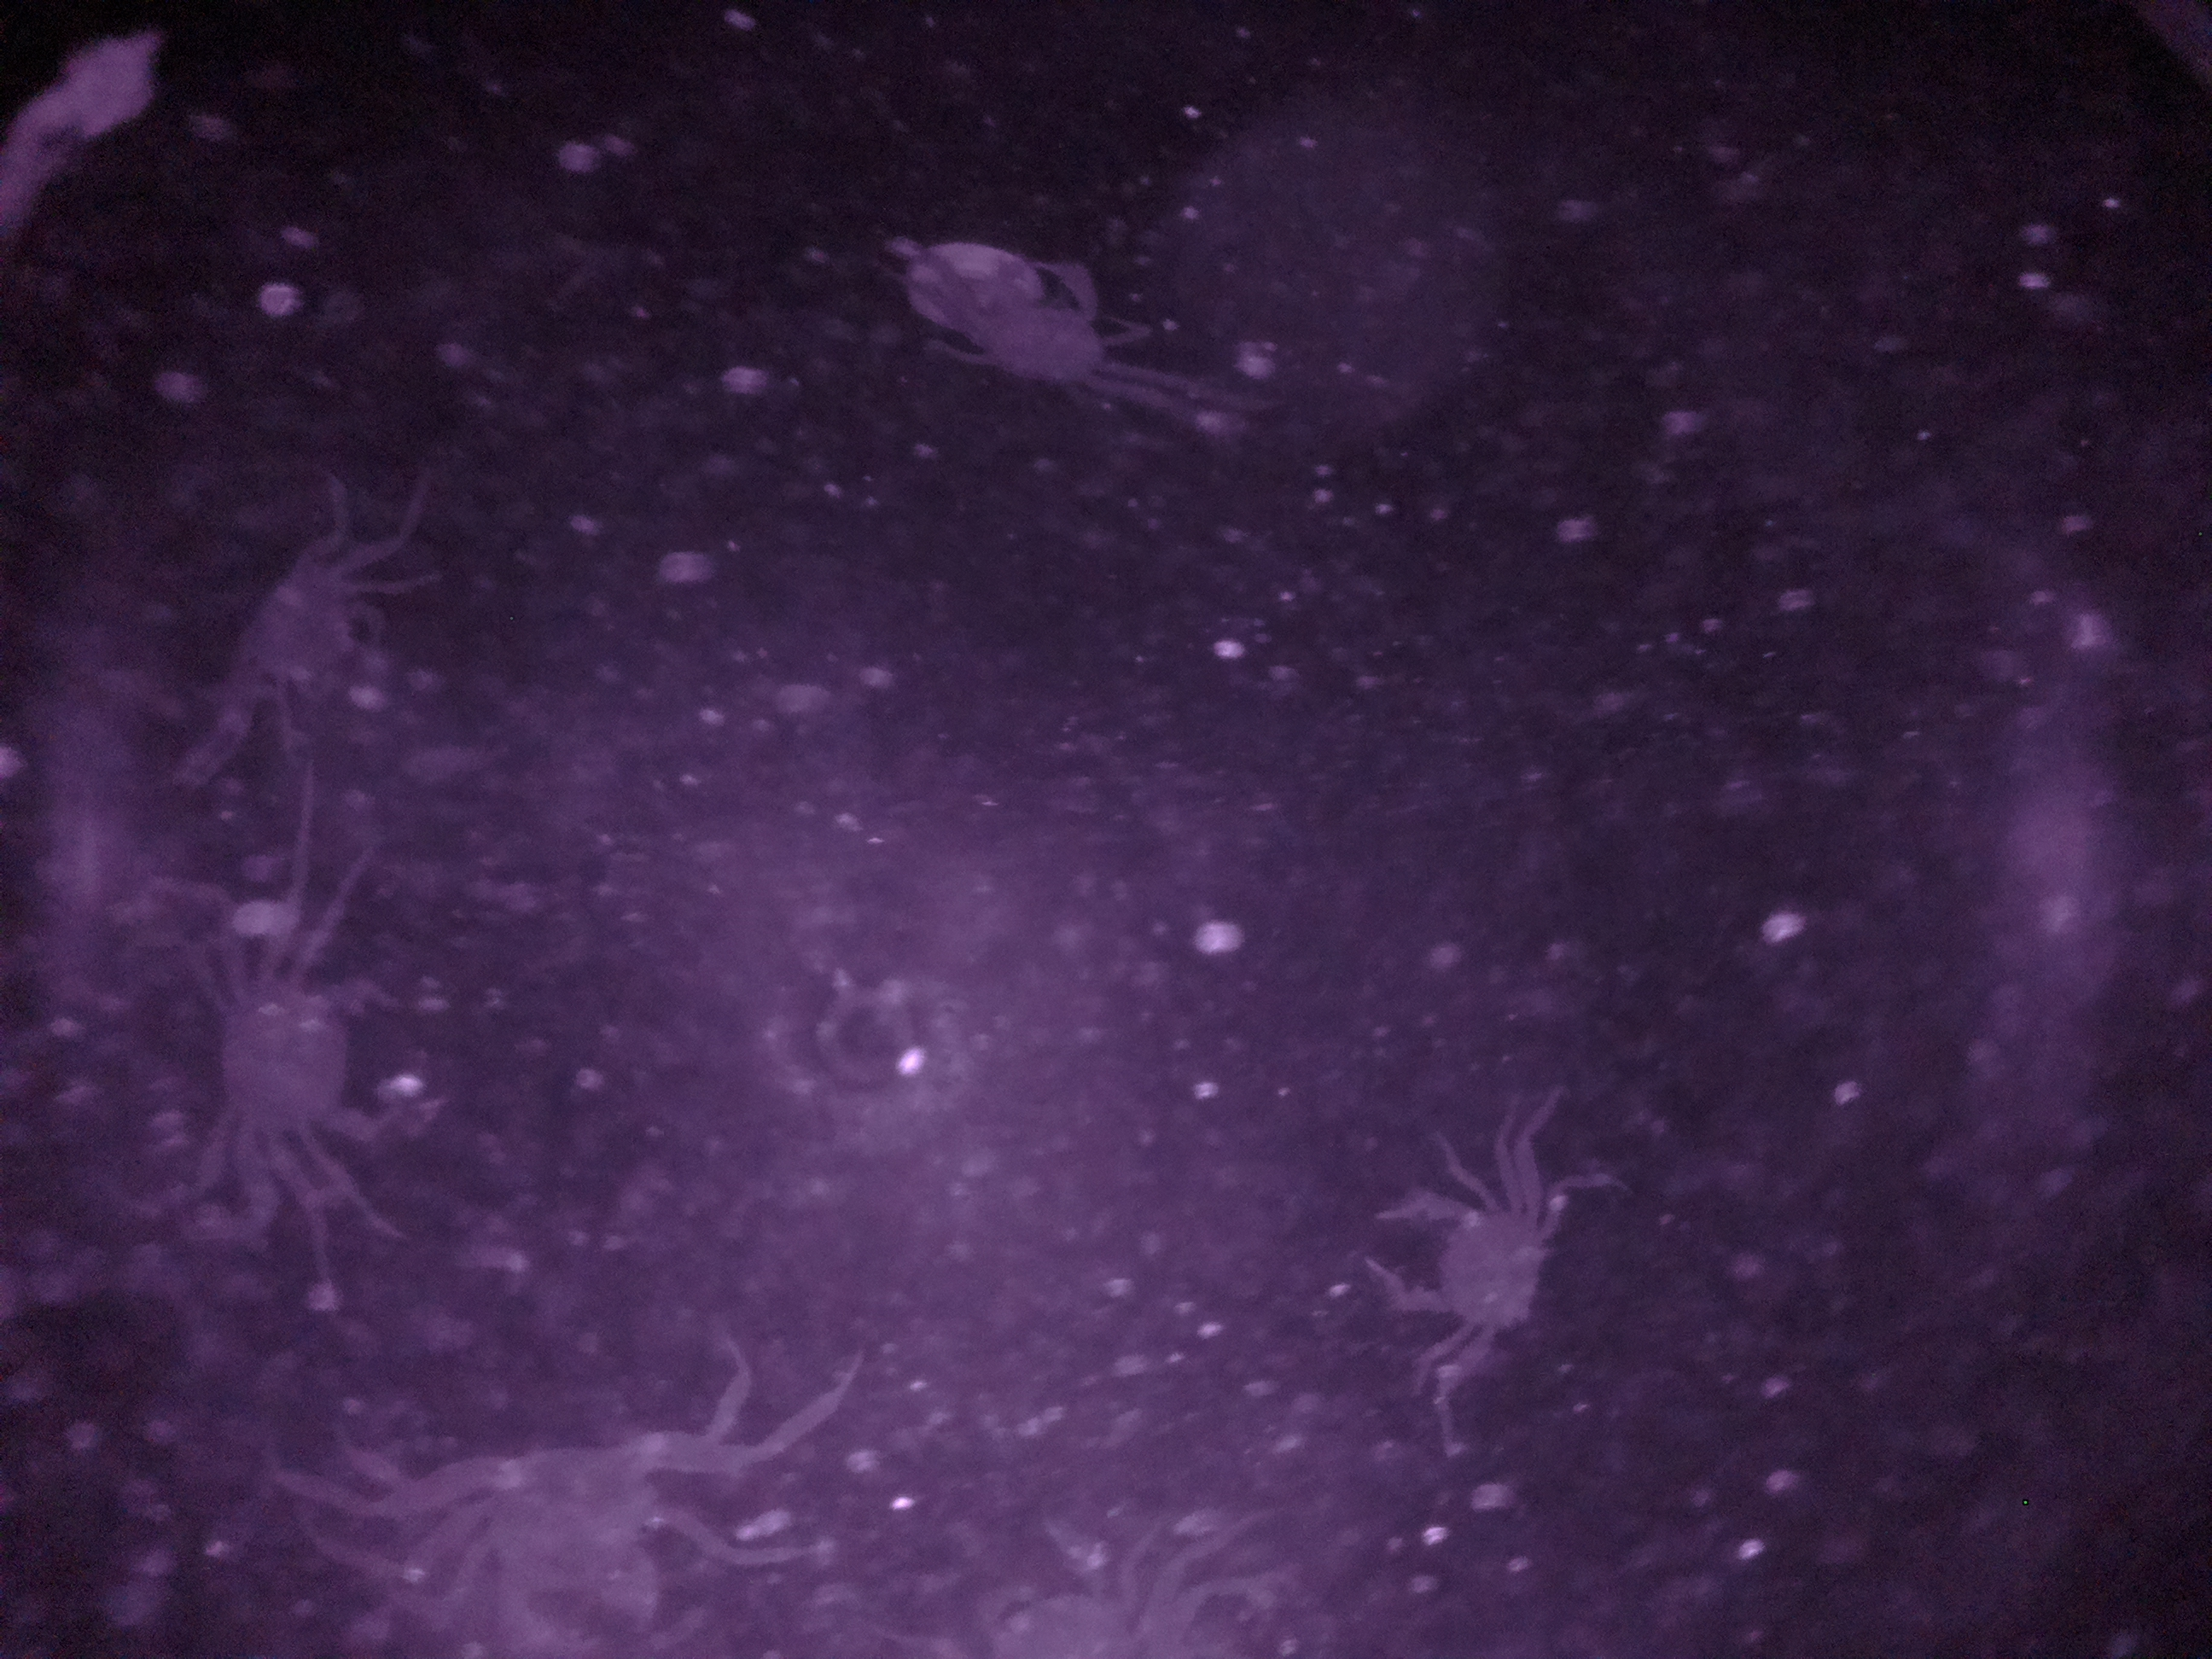Crab: (1348, 1140, 1569, 1370)
